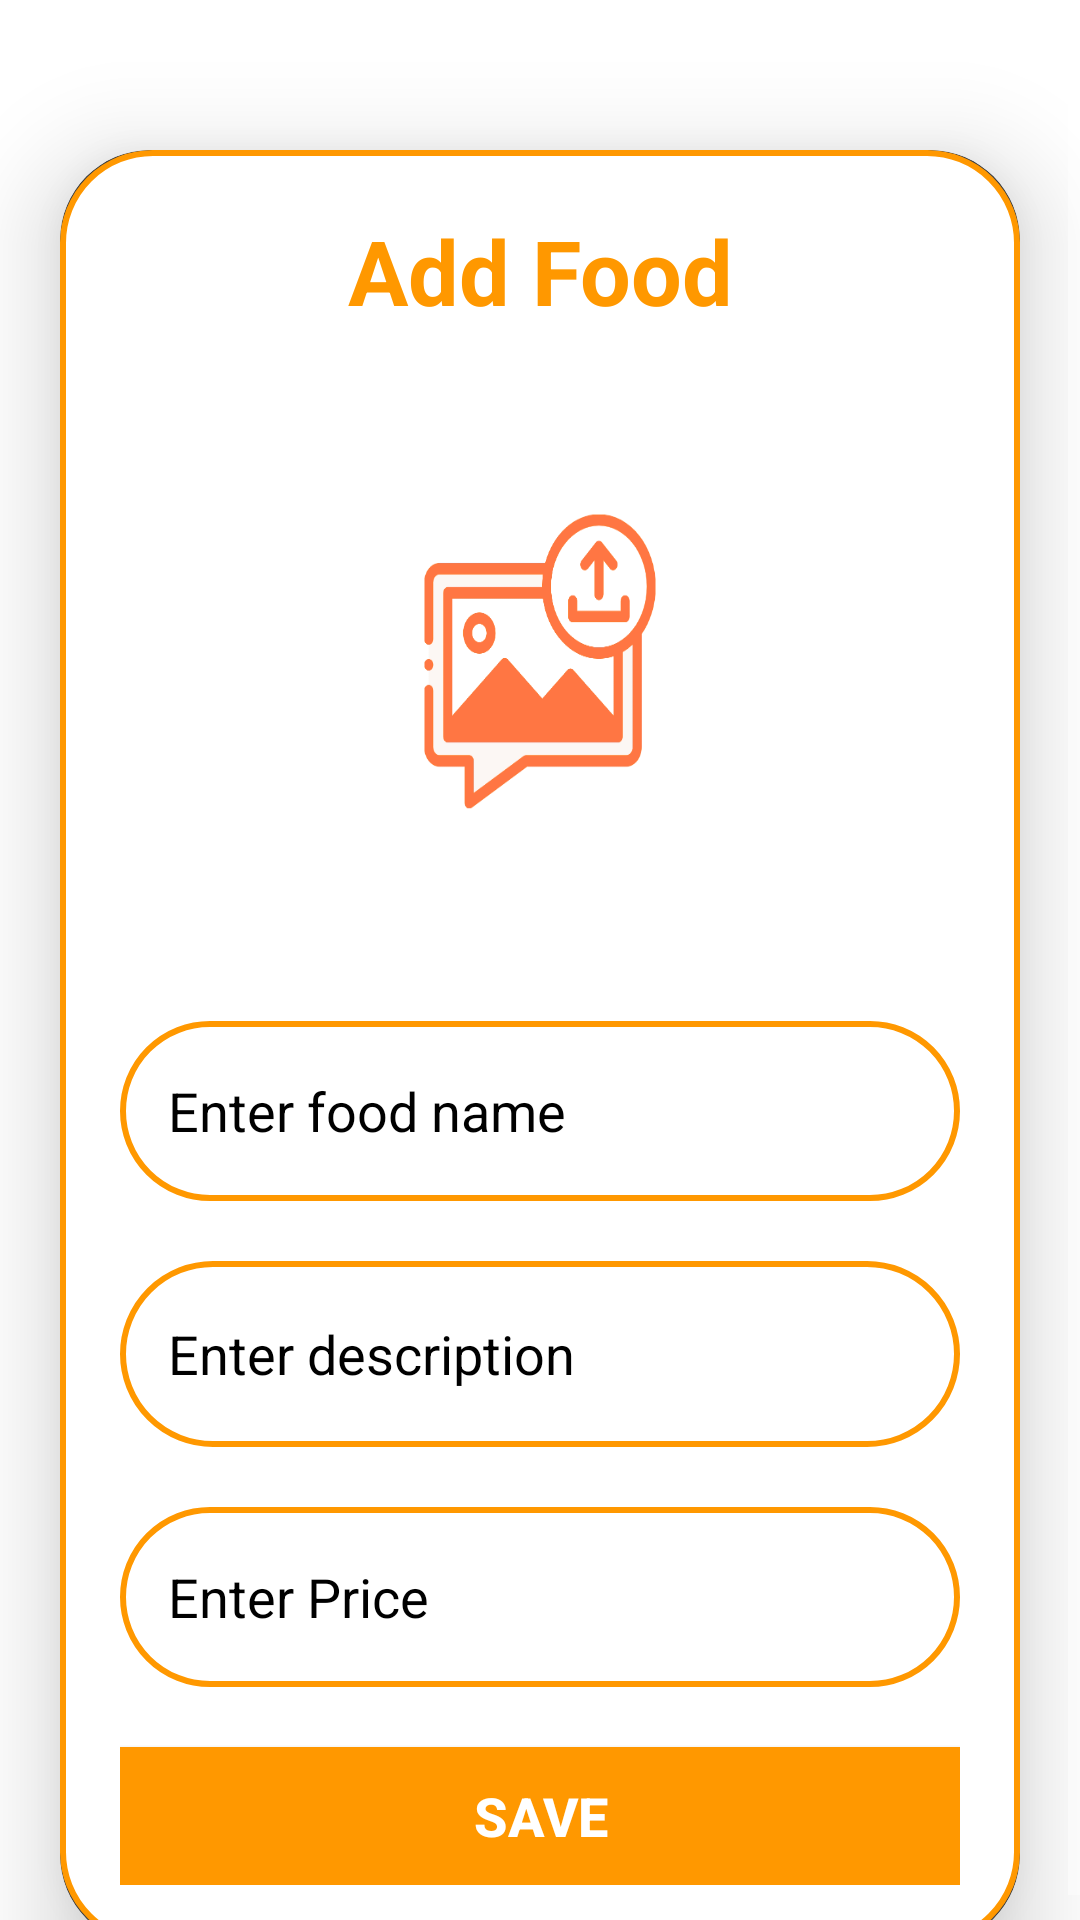

Where icons sit on this 1080px x 1920px app screen, as [x1,y1,x2,y2]:
uploadimg: [424,514,656,809]
